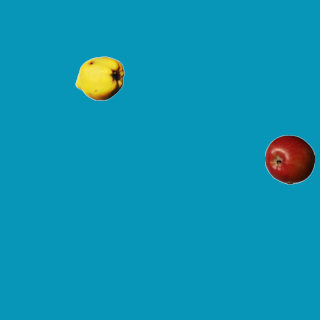Apple Braeburn: (264, 134, 314, 184)
Quince: (74, 53, 124, 103)
